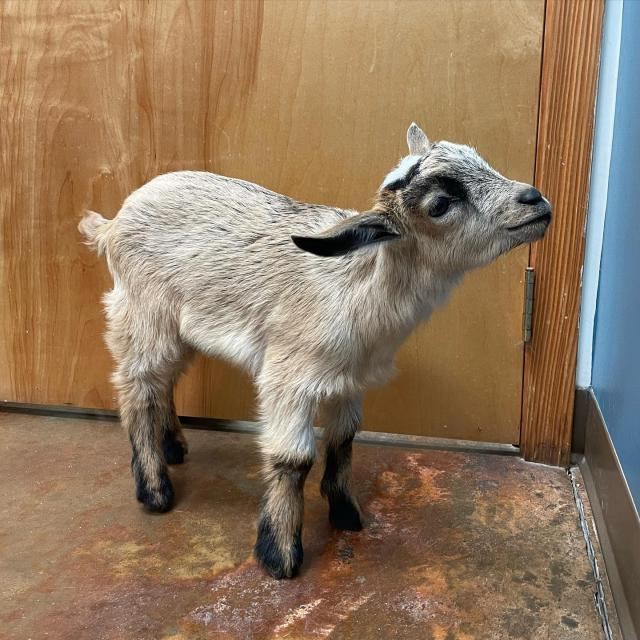goat: (68, 124, 554, 589)
